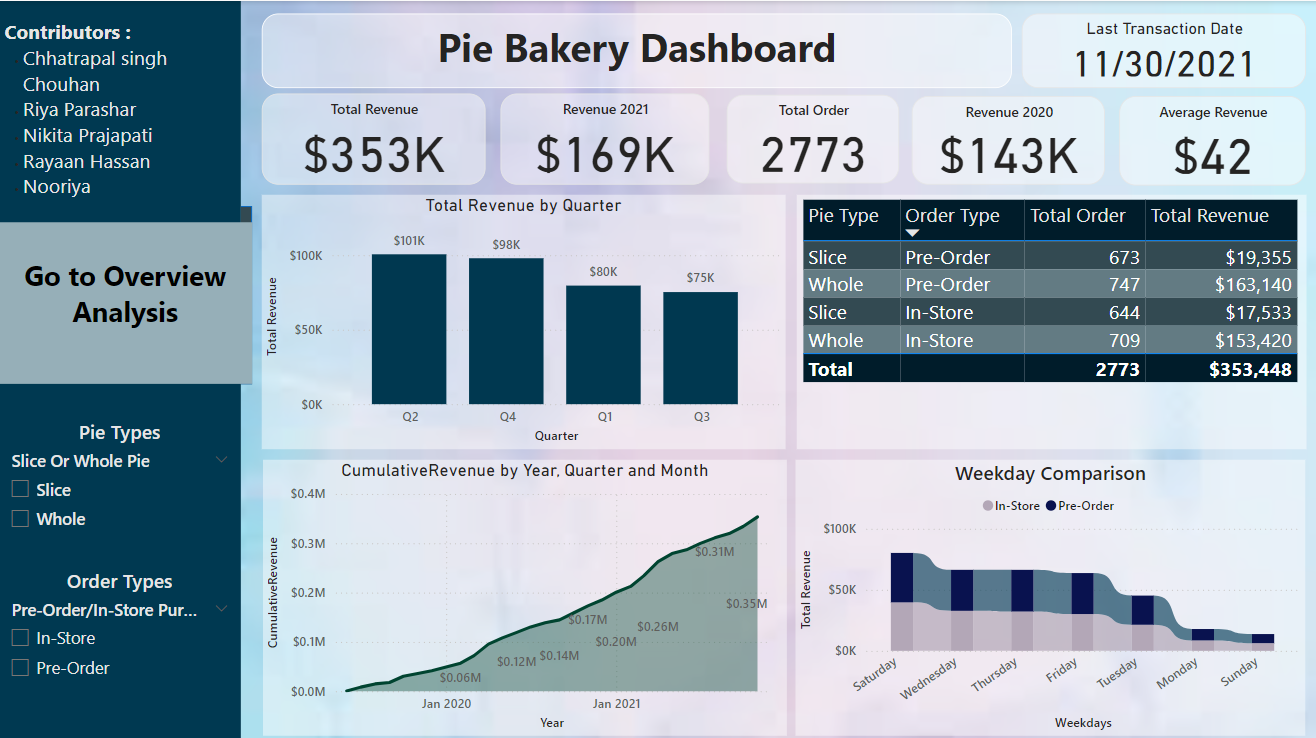

The dashboard page shown, as its layout file describes it:
{"tool":"powerbi","page":{"name":"Dashboard","canvas":[1280,720],"ordinal":0},"visuals":[{"type":"shape","box":[1.3,197.3,244,172],"z":0},{"type":"stackedAreaChart","fields":{"Category":["CalendarTable2.Date.Variation.Date Hierarchy.Year","CalendarTable2.Date.Variation.Date Hierarchy.Quarter","CalendarTable2.Date.Variation.Date Hierarchy.Month"],"Y":["measure for all need operation.CumulativeRevenue"]},"box":[255.8,442.8,505.5,266.6],"z":1000},{"type":"columnChart","fields":{"Y":["measure for all need operation.Total Revenue"],"Category":["CalendarTable2.Quarter"]},"box":[254.7,186.7,505.3,245.3],"z":2000},{"type":"ribbonChart","title":"Weekday Comparison","fields":{"Series":["Dim_OrderTypes.Pre-Order/In-Store Purchase"],"Category":["CalendarTable2.Weekdays"],"Y":["measure for all need operation.Total Revenue"]},"box":[769.7,442.8,492.2,266.6],"z":3000},{"type":"tableEx","fields":{"Values":["Dim_PieTypes.Slice Or Whole Pie","Dim_OrderTypes.Pre-Order/In-Store Purchase","measure for all need operation.Total Order","measure for all need operation.Total Revenue"]},"box":[770.7,186.7,492,245.3],"z":4000},{"type":"card","title":"Total Revenue","fields":{"Values":["measure for all need operation.Total Revenue"]},"box":[254.6,89.3,218.4,88.1],"z":5000},{"type":"card","title":"Average Revenue","fields":{"Values":["measure for all need operation.Average Revenue"]},"box":[1082.7,92,180,86.7],"z":6000},{"type":"card","title":"Last Transaction Date","fields":{"Values":["measure for all need operation.last day"]},"box":[988,12,274.7,72],"z":7000},{"type":"card","title":"Revenue 2020","fields":{"Values":["years.Revenue2020"]},"box":[881.9,91.7,190.6,85.7],"z":8000},{"type":"card","title":"Revenue 2021","fields":{"Values":["years.Revenue2021"]},"box":[485,89.3,232.8,88.1],"z":9000},{"type":"card","title":"Total Order","fields":{"Values":["measure for all need operation.Total Order"]},"box":[703.4,90.5,166.5,85.7],"z":10000},{"type":"shape","box":[0,0,234.7,720],"z":11000},{"type":"slicer","title":"Pie Types","fields":{"Values":["Dim_PieTypes.Slice Or Whole Pie"]},"box":[0,402.7,234.7,130.7],"z":12000},{"type":"shape","box":[0,213.3,245.3,156],"z":13000},{"type":"textbox","box":[0,241.3,245.3,86.7],"z":14000},{"type":"textbox","box":[1.3,12,244,201.3],"z":15000},{"type":"slicer","title":"Order Types","fields":{"Values":["Dim_OrderTypes.Pre-Order/In-Store Purchase"]},"box":[0,546.7,234.7,117.3],"z":16000},{"type":"shape","title":"Pie Bakery Dashboard","box":[254.7,12,724,72],"z":17000},{"type":"textbox","box":[254.7,14.7,724,69.3],"z":18000}]}

Visuals, with their boxes in screenshot pixels (x1, y1, x2, y2), scaled from the page's 1280x720 canvas onto the 1316x738 screenshot:
shape: (left=1, top=202, right=252, bottom=379)
stackedAreaChart - CalendarTable2.Date.Variation.Date Hierarchy.Year x CalendarTable2.Date.Variation.Date Hierarchy.Quarter: (left=263, top=454, right=783, bottom=727)
columnChart - measure for all need operation.Total Revenue x CalendarTable2.Quarter: (left=262, top=191, right=781, bottom=443)
"Weekday Comparison" ribbonChart: (left=791, top=454, right=1297, bottom=727)
tableEx - Dim_PieTypes.Slice Or Whole Pie x Dim_OrderTypes.Pre-Order/In-Store Purchase: (left=792, top=191, right=1298, bottom=443)
"Total Revenue" card: (left=262, top=92, right=486, bottom=182)
"Average Revenue" card: (left=1113, top=94, right=1298, bottom=183)
"Last Transaction Date" card: (left=1016, top=12, right=1298, bottom=86)
"Revenue 2020" card: (left=907, top=94, right=1103, bottom=182)
"Revenue 2021" card: (left=499, top=92, right=738, bottom=182)
"Total Order" card: (left=723, top=93, right=894, bottom=181)
shape: (left=0, top=0, right=241, bottom=737)
"Pie Types" slicer: (left=0, top=413, right=241, bottom=547)
shape: (left=0, top=219, right=252, bottom=379)
textbox: (left=0, top=247, right=252, bottom=336)
textbox: (left=1, top=12, right=252, bottom=219)
"Order Types" slicer: (left=0, top=560, right=241, bottom=681)
"Pie Bakery Dashboard" shape: (left=262, top=12, right=1006, bottom=86)
textbox: (left=262, top=15, right=1006, bottom=86)
